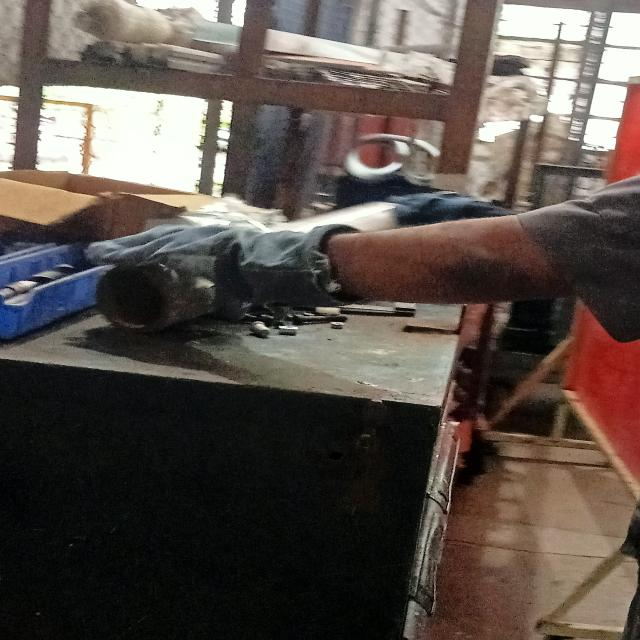Gloves-Detection: (103, 224, 322, 294)
